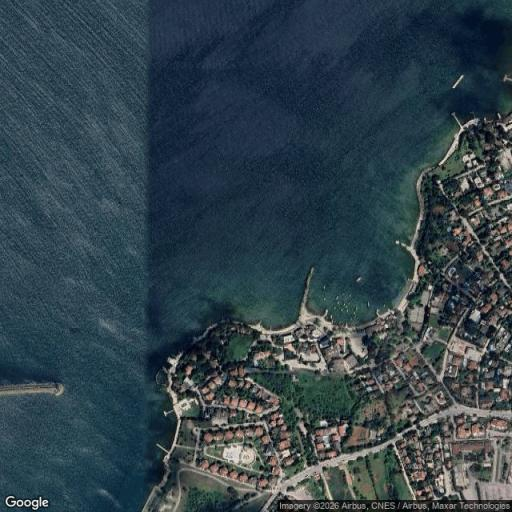ship: (450, 70, 468, 94), (322, 306, 330, 319), (356, 275, 363, 283), (345, 292, 353, 299), (332, 293, 340, 300), (320, 284, 328, 290), (365, 303, 372, 309), (323, 295, 329, 302), (332, 303, 336, 312), (329, 313, 333, 320), (339, 307, 344, 312), (354, 306, 357, 312), (354, 316, 358, 320), (350, 316, 352, 324), (383, 303, 386, 308), (345, 306, 350, 309), (348, 303, 351, 307), (353, 311, 356, 315), (346, 308, 348, 313), (337, 302, 340, 305), (342, 303, 345, 306)
